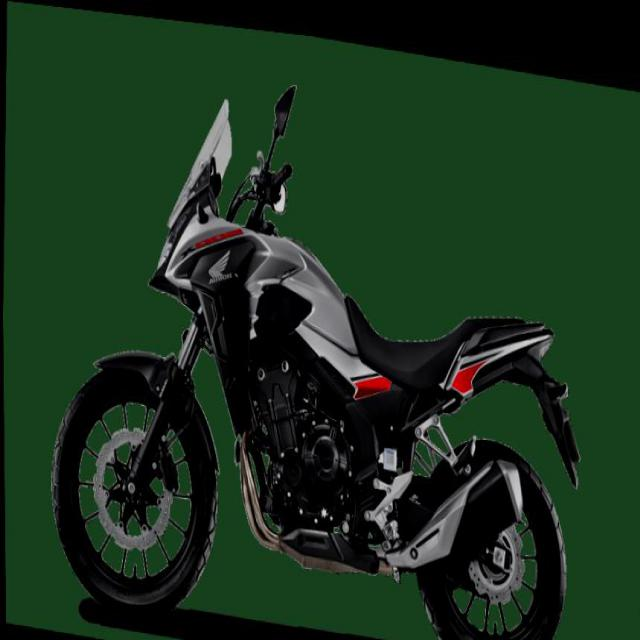CB500X: (44, 69, 580, 638)
